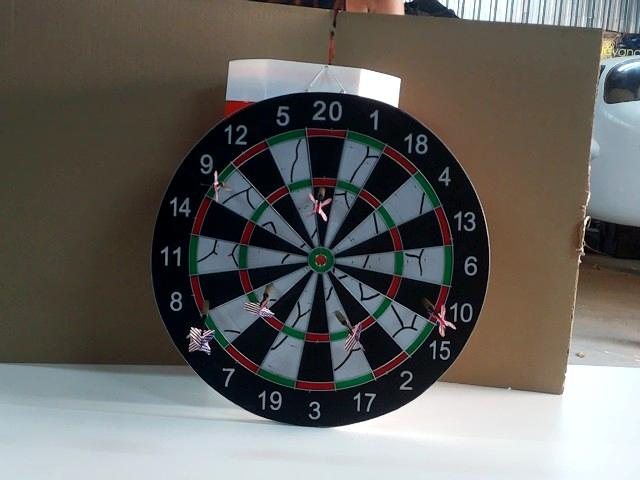single_10: (396, 279, 441, 319)
single_16: (255, 267, 310, 308)
single_20: (313, 189, 336, 247)
single_8: (199, 271, 246, 311)
single_9: (218, 170, 258, 219)
